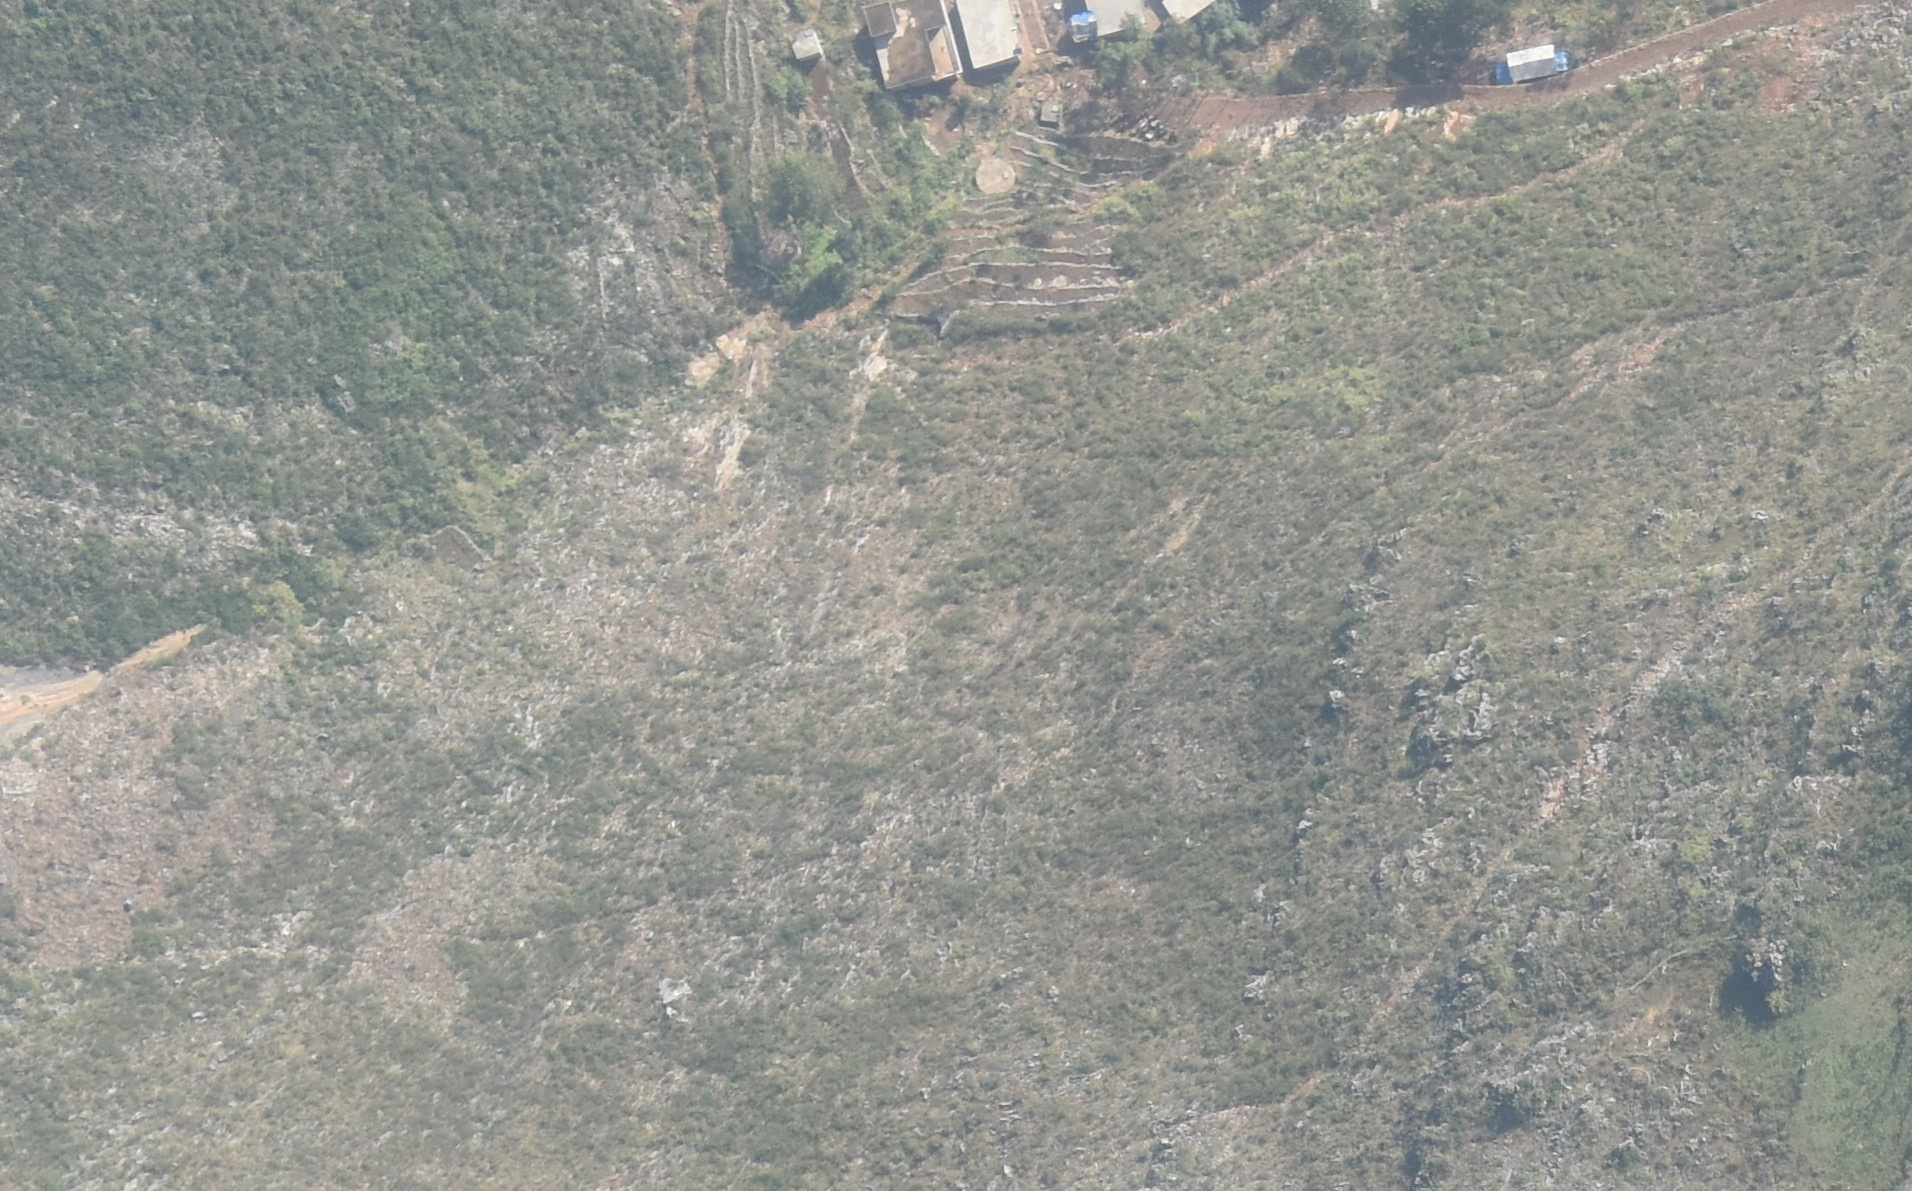building: (861, 1, 963, 89), (955, 1, 1021, 69), (1505, 45, 1559, 82), (792, 28, 820, 58), (1039, 101, 1059, 123)
well: (976, 159, 1013, 196)
